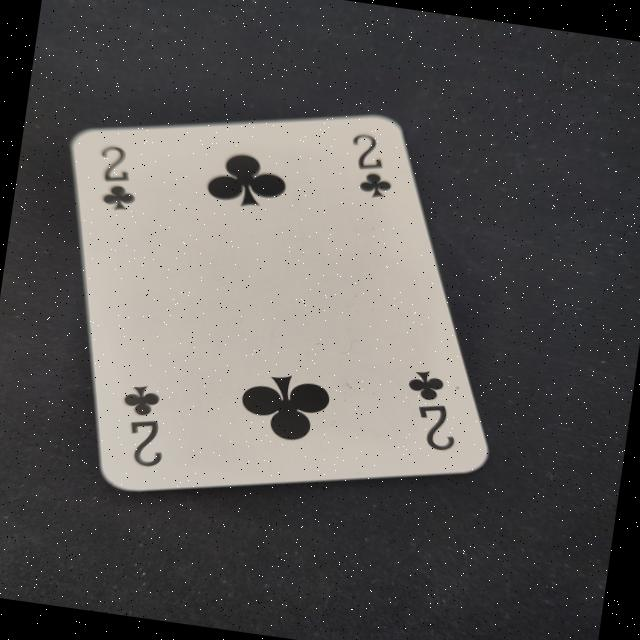2c: (396, 361, 472, 461), (109, 380, 182, 476), (339, 130, 405, 204), (90, 140, 148, 220)
